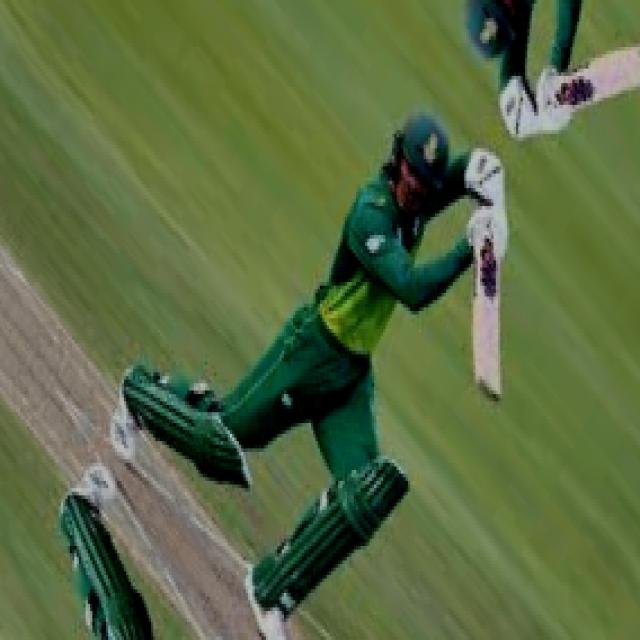toe: (470, 344, 500, 402)
